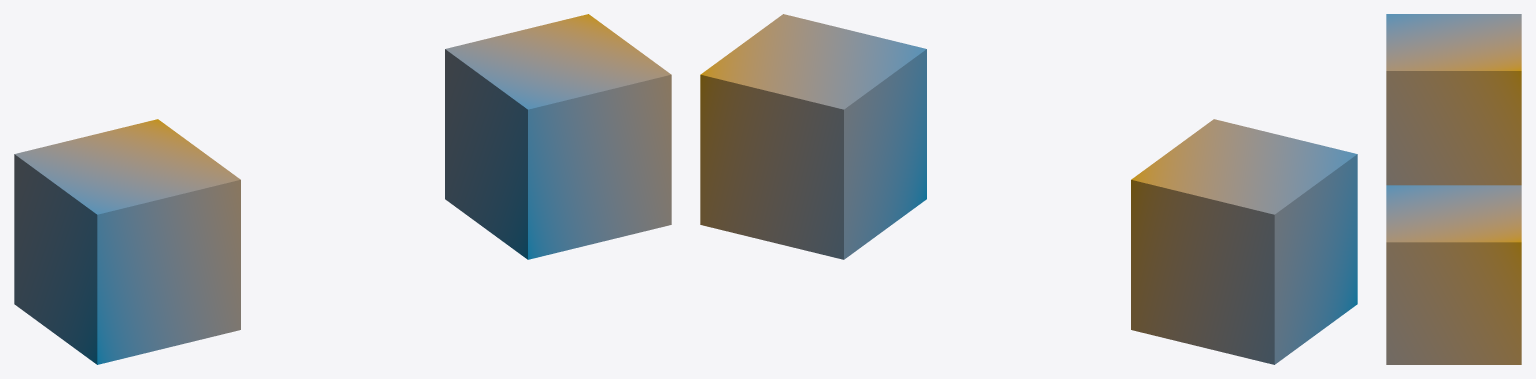
File: two_cubes.fbx
The picture shows the model from 3 angles, left to right: view 1: azimuth 30°, elevation 25°; view 2: azimuth 150°, elevation 25°; view 3: azimuth 270°, elevation 25°; orthographic projection. The views are drawn at different scales.
Visible parts, largest first — view 1: Left, Right; view 2: Left, Right; view 3: Right, Left.
Boxes of the visible parts, x1,y1,x2,y2 form: Left: [14, 119, 240, 364]; Right: [445, 14, 671, 259]; Left: [1131, 119, 1357, 364]; Right: [700, 14, 926, 259]; Right: [1386, 185, 1521, 364]; Left: [1386, 14, 1521, 185].
Bounding box in the file's own units: 800 × 200 × 200.
